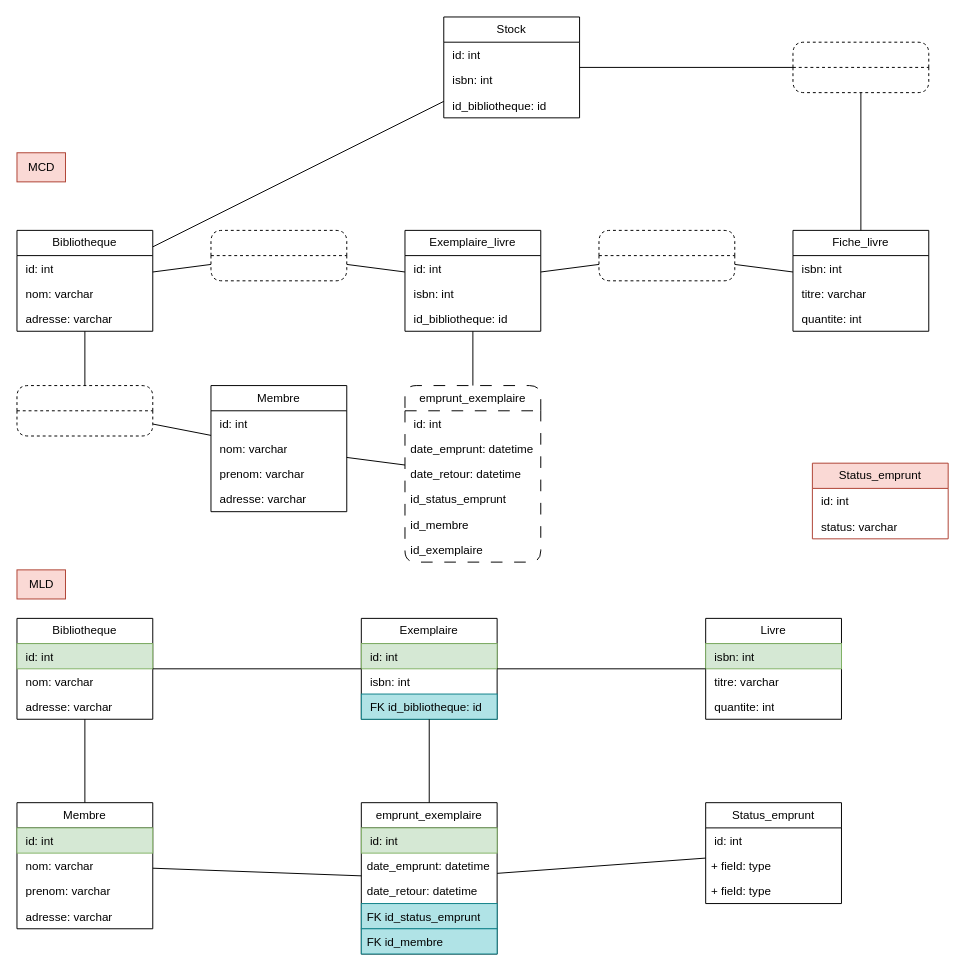
The diagram is 965 pixels wide and 974 high, and some of its shapes have lost their labels. Each missing label, with the centre of its shape:
adhèrent: the point at 84,410
appartient: the point at 666,255
contient est contenu: the point at 860,67
possède sont possédés: the point at 278,255
